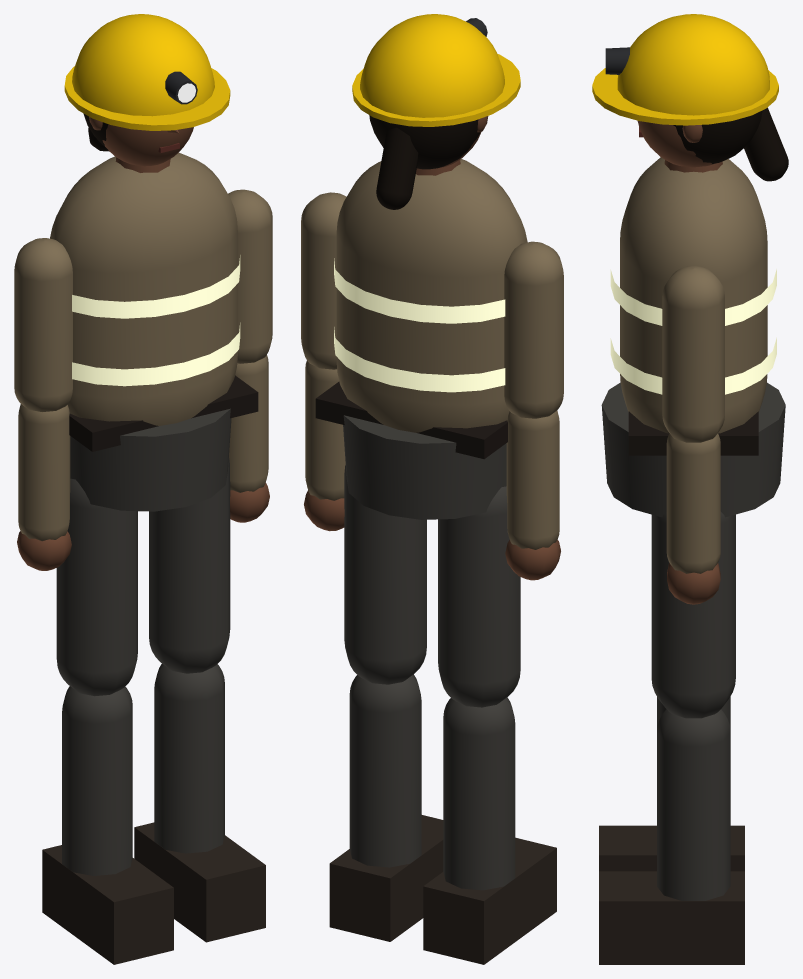
File: worker_kelly.glb
3 views of the same model, side by side, from view 1: azimuth 30°, elevation 25°; view 2: azimuth 150°, elevation 25°; view 3: azimuth 270°, elevation 25° (orthographic).
Parts seen in each view (by area): view 1: worker_torso, worker_legs_0_knee, worker_legs_1_knee, worker_head, worker_legs_0_hip, worker_legs_1_hip, worker_arms_0_sh, worker_arms_0_el, worker_arms_1_sh, worker_arms_1_el, worker_arms_0_hand, worker_arms_1_hand; view 2: worker_torso, worker_legs_0_knee, worker_legs_1_knee, worker_head, worker_legs_0_hip, worker_legs_1_hip, worker_arms_0_sh, worker_arms_0_el, worker_arms_1_sh, worker_arms_1_el, worker_arms_0_hand, worker_arms_1_hand; view 3: worker_torso, worker_legs_1_knee, worker_head, worker_legs_1_hip, worker_arms_1_sh, worker_arms_1_el, worker_legs_0_knee, worker_arms_1_hand.
Part boxes in pixels (x1=…): worker_torso: x1=50, y1=152, x2=258, y2=511; worker_legs_0_knee: x1=42, y1=686, x2=173, y2=964; worker_legs_1_knee: x1=134, y1=664, x2=265, y2=942; worker_head: x1=64, y1=14, x2=230, y2=166; worker_legs_0_hip: x1=56, y1=478, x2=137, y2=696; worker_legs_1_hip: x1=149, y1=458, x2=230, y2=673; worker_arms_0_sh: x1=14, y1=238, x2=72, y2=411; worker_arms_0_el: x1=18, y1=404, x2=70, y2=541; worker_arms_1_sh: x1=228, y1=189, x2=272, y2=363; worker_arms_1_el: x1=229, y1=355, x2=268, y2=492; worker_arms_0_hand: x1=17, y1=531, x2=71, y2=570; worker_arms_1_hand: x1=230, y1=482, x2=269, y2=522; worker_torso: x1=315, y1=159, x2=527, y2=519; worker_legs_0_knee: x1=423, y1=697, x2=556, y2=964; worker_legs_1_knee: x1=329, y1=674, x2=443, y2=941; worker_head: x1=352, y1=14, x2=520, y2=209; worker_legs_0_hip: x1=438, y1=486, x2=520, y2=707; worker_legs_1_hip: x1=344, y1=465, x2=426, y2=684; worker_arms_0_sh: x1=504, y1=241, x2=563, y2=418; worker_arms_0_el: x1=506, y1=410, x2=559, y2=549; worker_arms_1_sh: x1=301, y1=192, x2=346, y2=369; worker_arms_1_el: x1=305, y1=360, x2=345, y2=500; worker_arms_0_hand: x1=505, y1=539, x2=560, y2=580; worker_arms_1_hand: x1=304, y1=490, x2=344, y2=531; worker_torso: x1=601, y1=157, x2=785, y2=517; worker_legs_1_knee: x1=599, y1=709, x2=744, y2=964; worker_head: x1=592, y1=14, x2=788, y2=181; worker_legs_1_hip: x1=651, y1=511, x2=735, y2=718; worker_arms_1_sh: x1=662, y1=266, x2=724, y2=442; worker_arms_1_el: x1=666, y1=433, x2=720, y2=573; worker_legs_0_knee: x1=599, y1=696, x2=744, y2=871; worker_arms_1_hand: x1=667, y1=563, x2=720, y2=604.
Bounding box in the file's own units: 0.5403 × 1.85 × 0.363.
